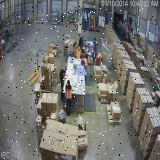Vest: (66, 85, 72, 98), (60, 72, 65, 85), (97, 54, 102, 65), (83, 58, 88, 67), (76, 48, 80, 59), (154, 61, 158, 70), (158, 55, 160, 60)
